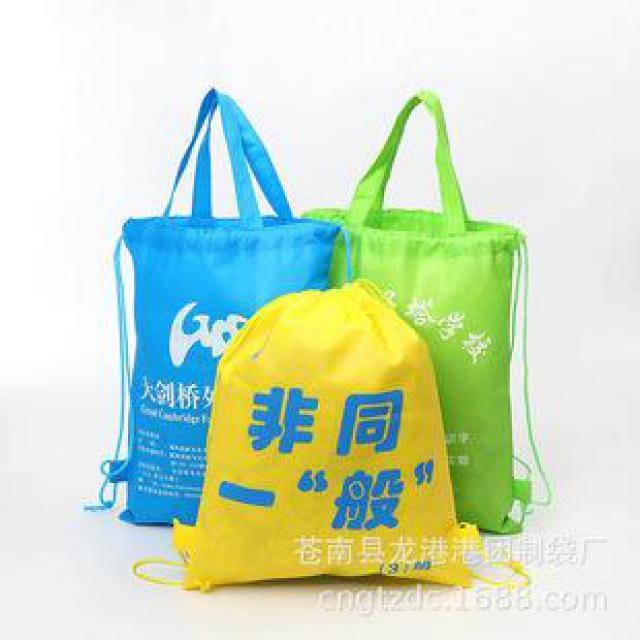waste: (103, 94, 314, 511), (205, 298, 469, 590)
